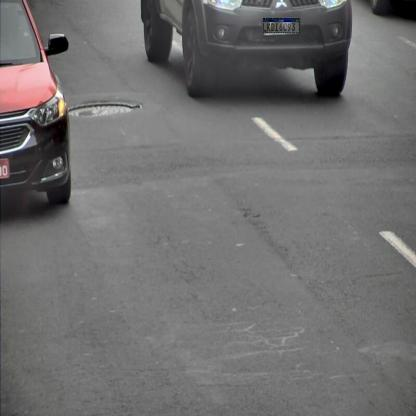PlacaM: (263, 18, 300, 33)
